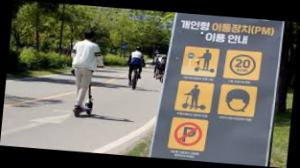nonhelmet: (64, 28, 103, 120)
